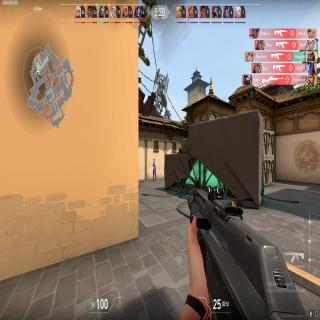ENEMY-BODY: (151, 156, 157, 182)
ENEMY-HEAD: (153, 158, 155, 163)
